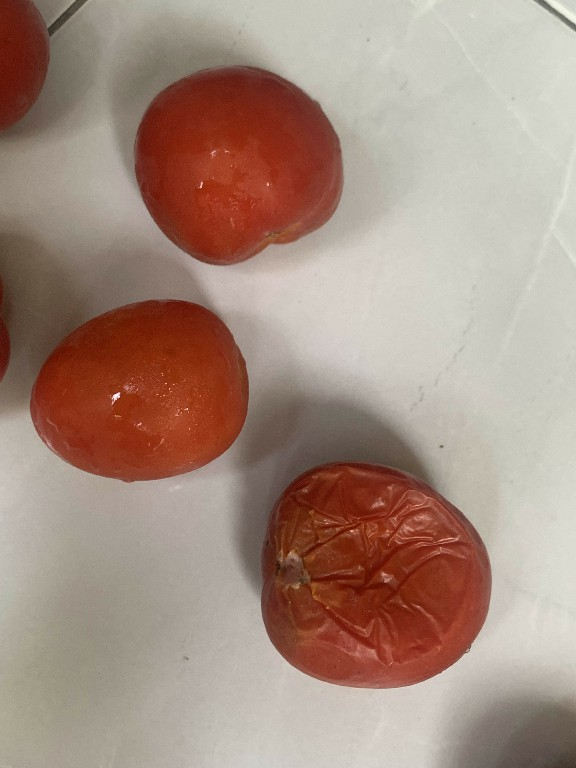NG: (257, 460, 497, 694)
OK: (125, 60, 353, 278), (18, 294, 252, 490)
